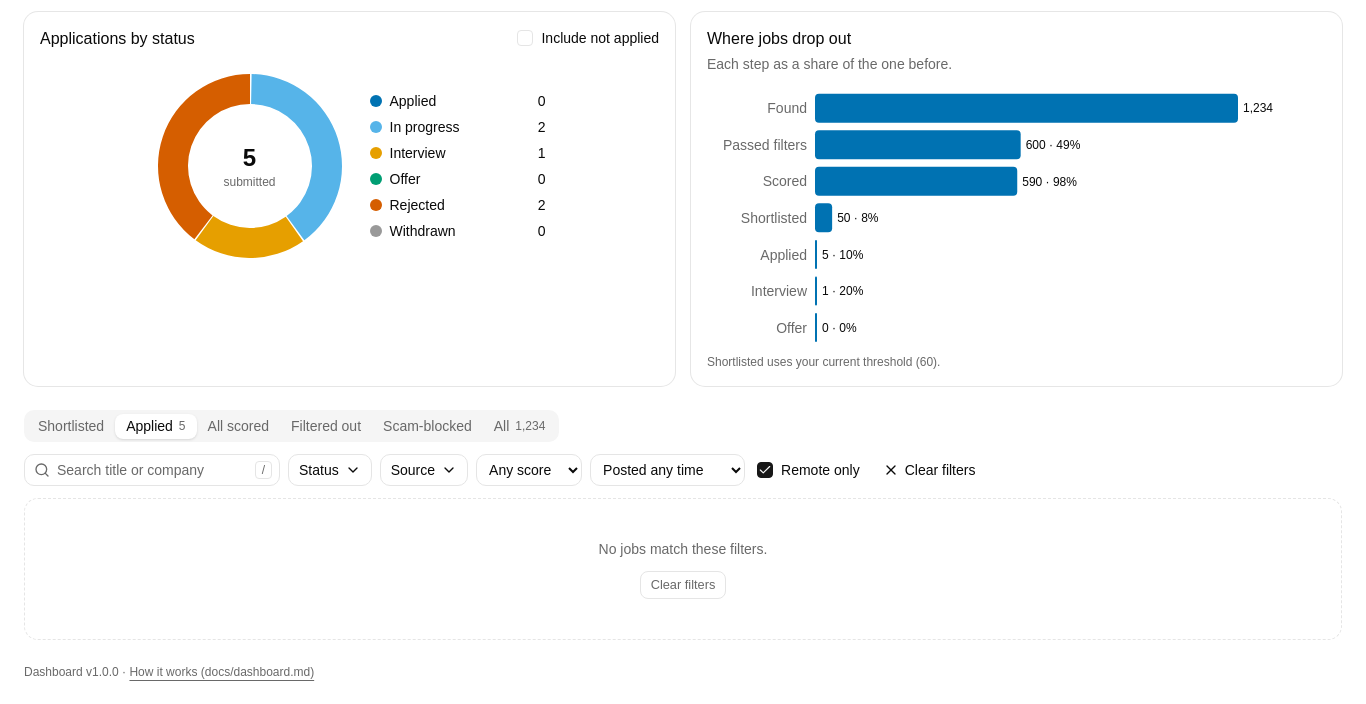
JobsTable: empty states › offers to clear the filters when they hide everything
(page scrolled)
Check: the text "No jobs match these filters." is shown, box left=599, top=539, right=768, bottom=559
Step 1. Click the button "Clear filters" below "No jobs match these filters." → (683,585), box left=640, top=571, right=726, bottom=599
(page scrolled)
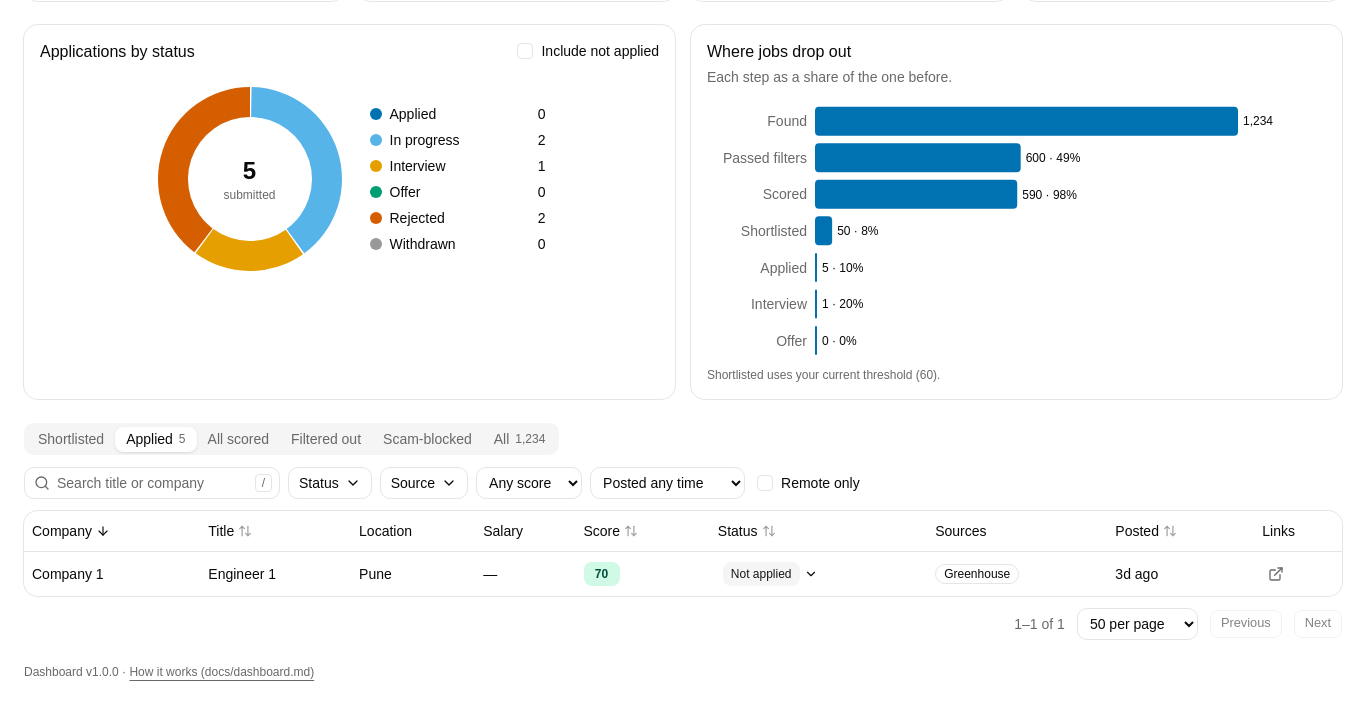
Check: the text "Company 1" is shown, box left=32, top=566, right=104, bottom=582
